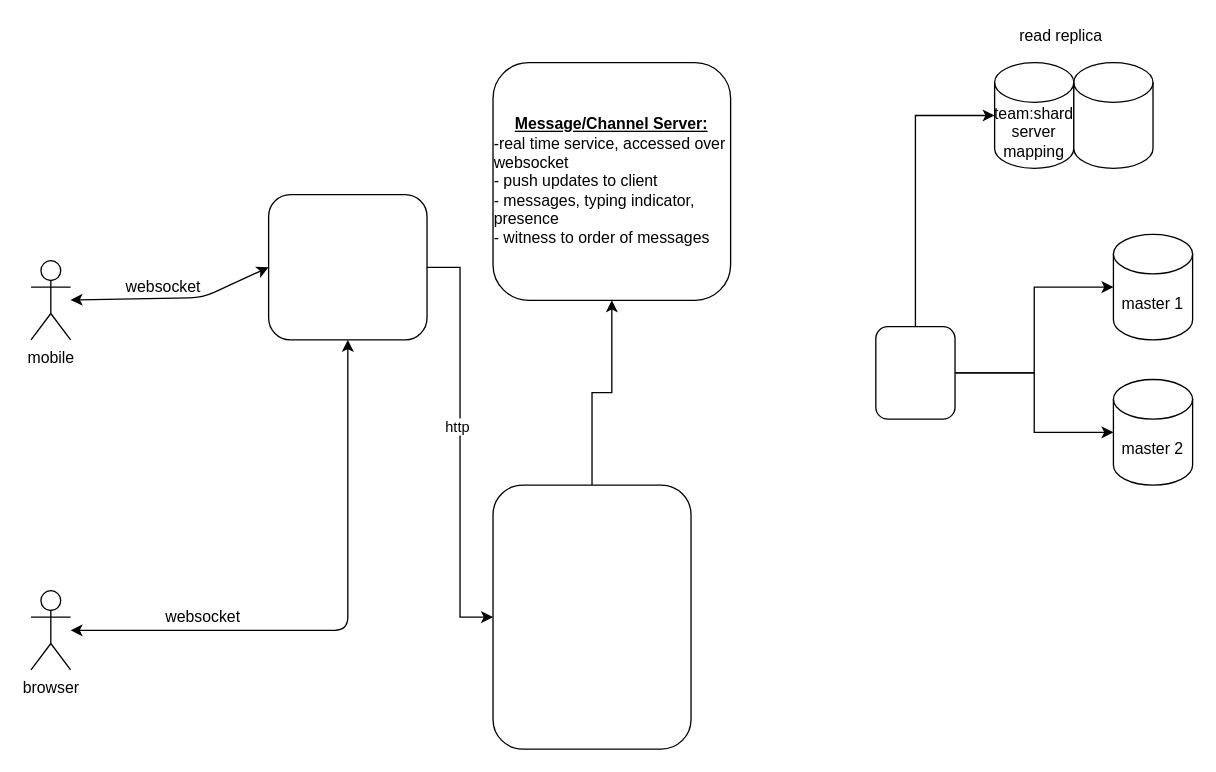
This 1216x772 diagram has some shape labels left out. Each missing label, with the centre of its shape:
CDN / Flannel - manage websocket connection: (x=347, y=266)
shard server: (x=914, y=372)
WebApp : - CUD - Storage of messages - session establishment -: (x=591, y=616)
